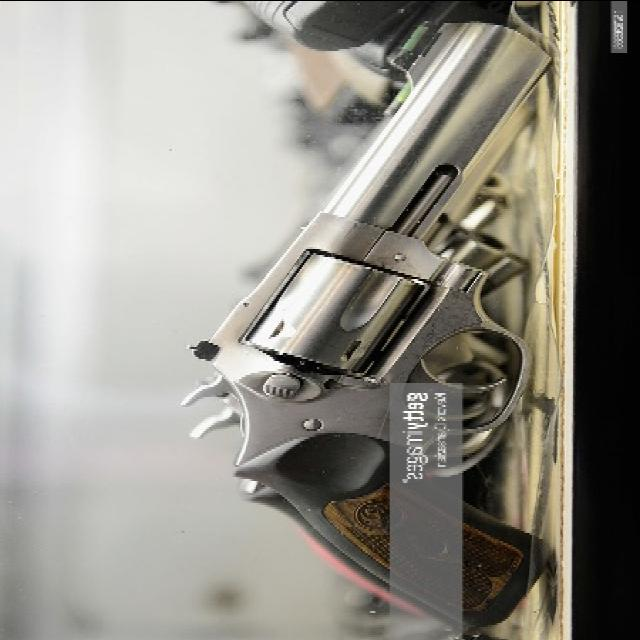handgun: (179, 9, 555, 633)
